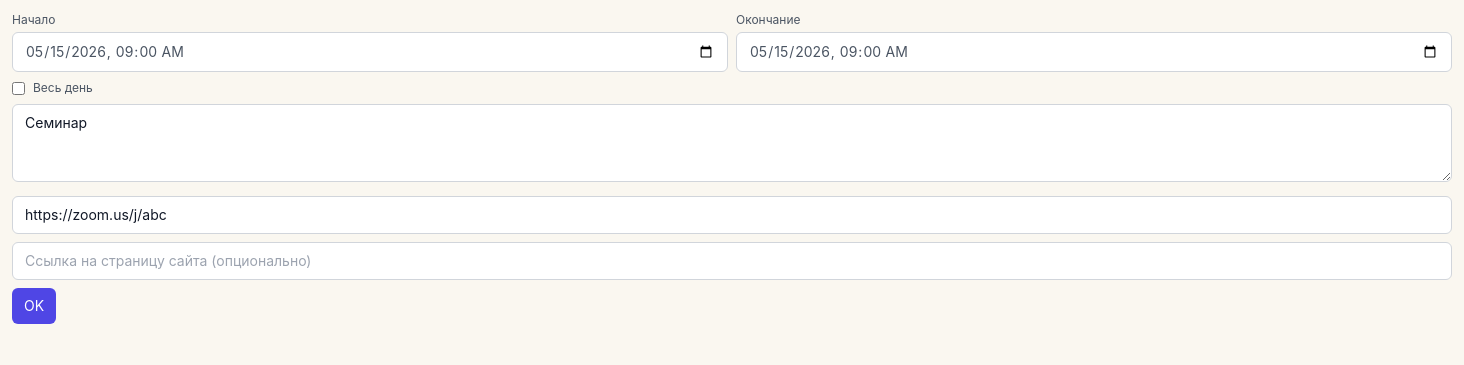
Test: EventForm › показывает validation error если end <= start
Click the button "OK" at (34, 306), box x1=12 y1=288 x2=56 y2=324
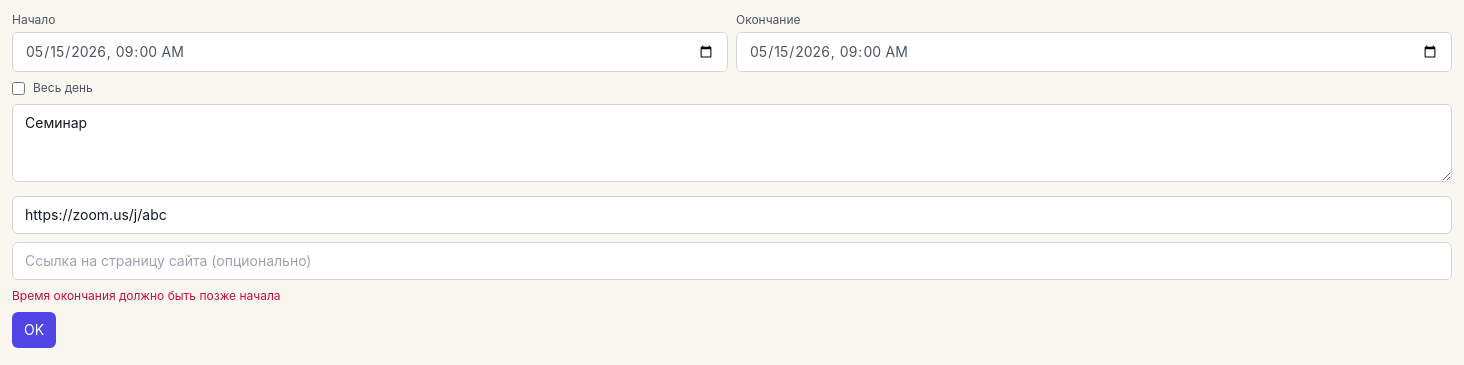
Check: the text "Время окончания должно быть позже начала" is shown, box x1=12 y1=288 x2=281 y2=303
